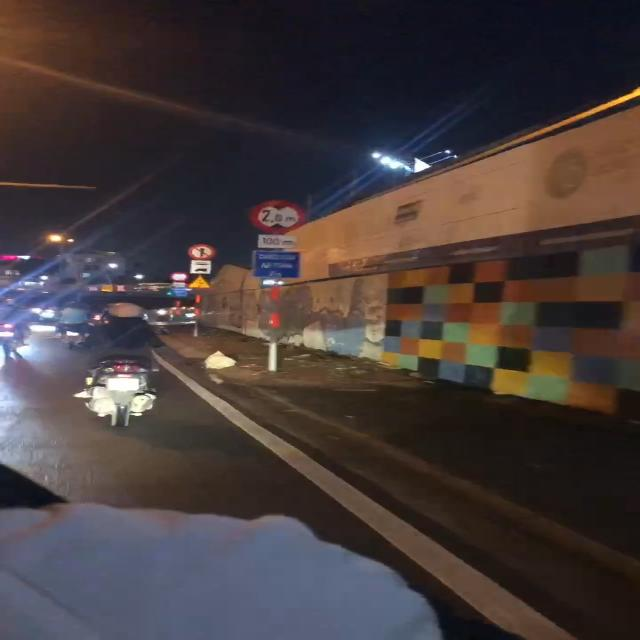Bien bao cam di thang: (183, 242, 220, 262)
Bien bao han che chieu cao: (246, 198, 315, 232)
